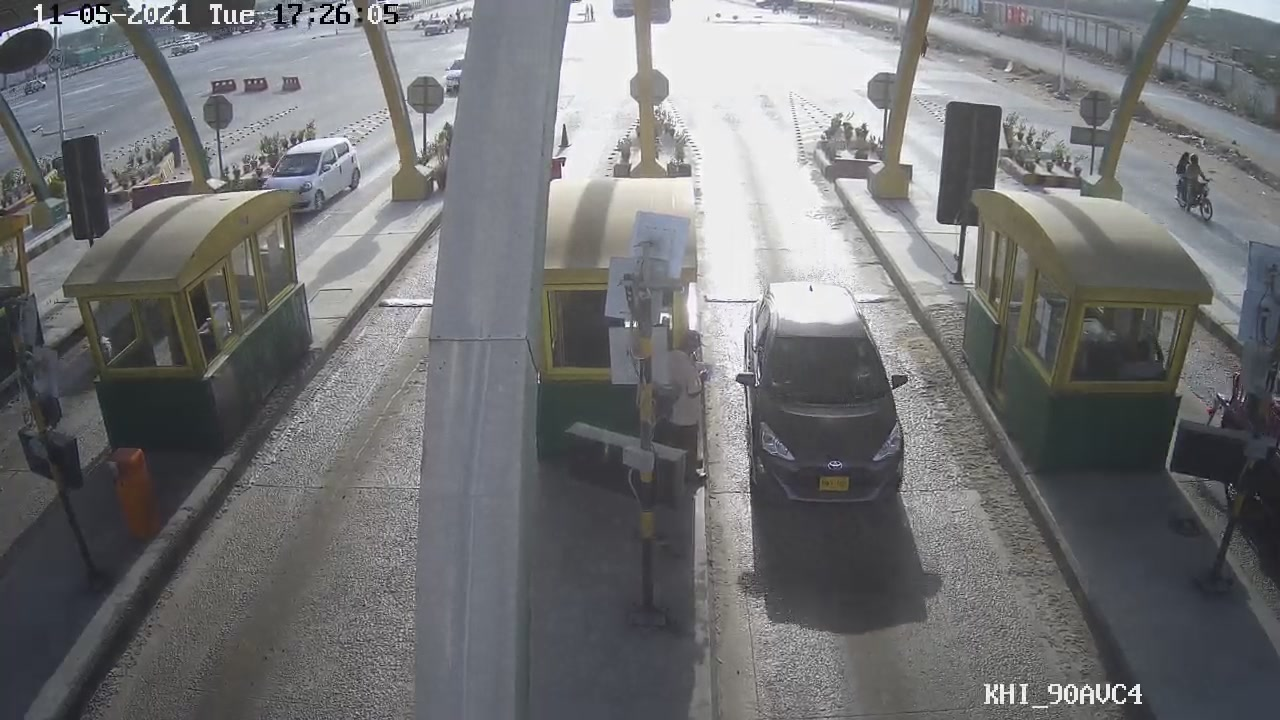F1: (727, 269, 919, 516)
